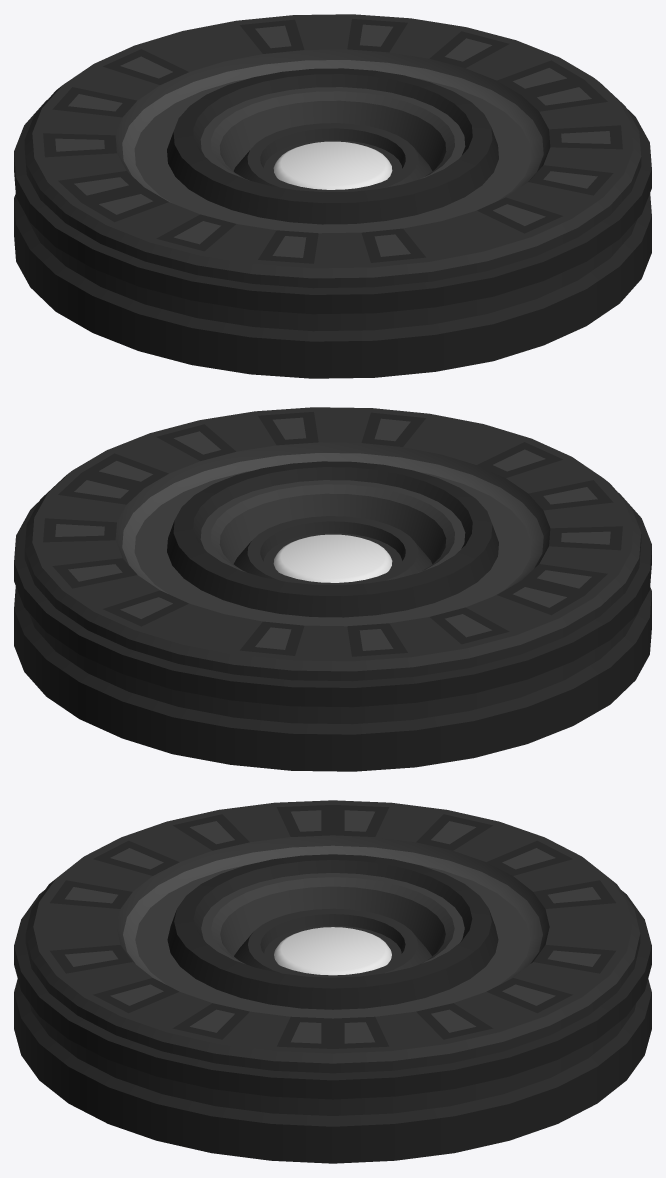
Rendered from Platform.fbx.
The picture shows the model from 3 angles, top to bottom: view 1: azimuth 30°, elevation 25°; view 2: azimuth 150°, elevation 25°; view 3: azimuth 270°, elevation 25°; orthographic projection.
Visible parts, largest first — view 1: Circle.005; view 2: Circle.005; view 3: Circle.005.
Part boxes in pixels (bbox=[...]): Circle.005: bbox=[14, 14, 651, 378]; Circle.005: bbox=[14, 407, 651, 771]; Circle.005: bbox=[14, 800, 651, 1163].
Bounding box in the file's own units: 1.47 × 0.2813 × 1.48.
